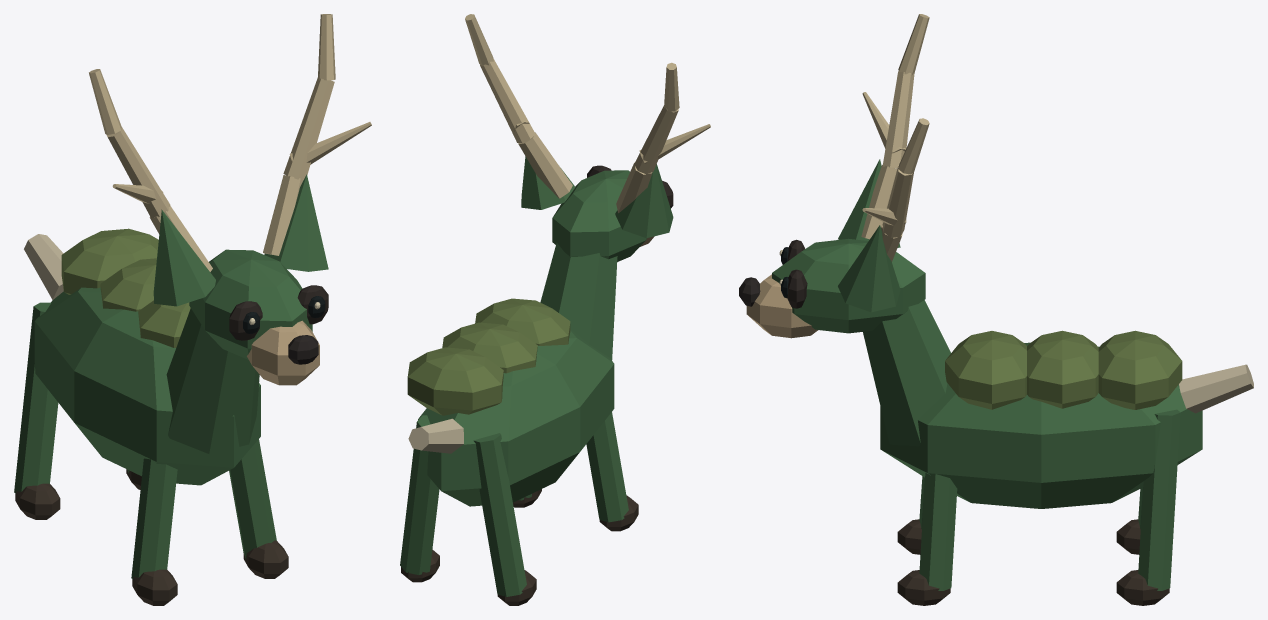
Rendered from fauna-brambleback_stag.glb.
The picture shows the model from 3 angles, left to right: view 1: azimuth 30°, elevation 25°; view 2: azimuth 150°, elevation 25°; view 3: azimuth 270°, elevation 25°; orthographic projection. The views are drawn at different scales.
Parts seen in each view (by area): view 1: Fauna_brambleback_stag; view 2: Fauna_brambleback_stag; view 3: Fauna_brambleback_stag.
Part boxes in pixels (x1,y1,x2,y2): Fauna_brambleback_stag: (14, 14, 371, 605); Fauna_brambleback_stag: (400, 14, 710, 605); Fauna_brambleback_stag: (739, 14, 1253, 605).
Bounding box in the file's own units: 1.07 × 2.17 × 1.98.
